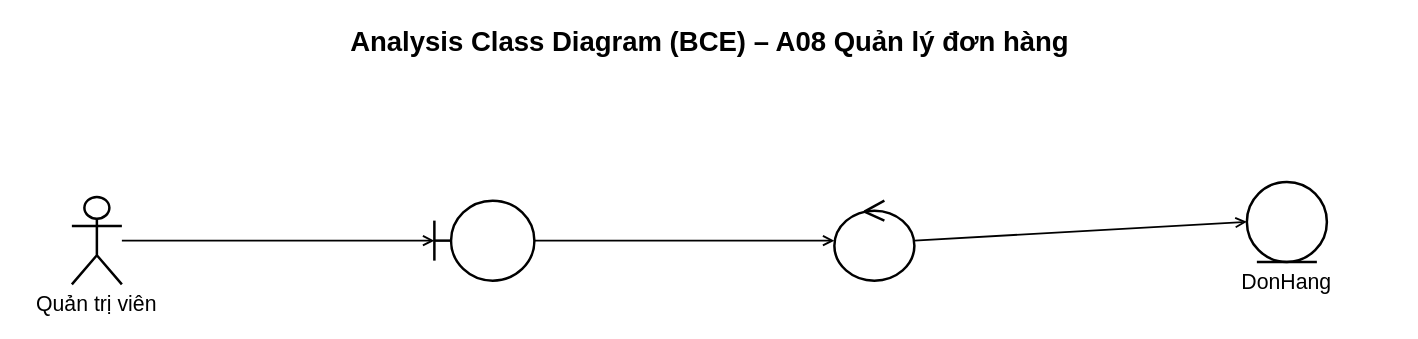
This 1418x339 diagram has some shape labels left out. The shapes that lost their labels are listed below. From the top down, each one's centre as x and y in pixels, then its label:
point 483,240: QuanLyDonHangPage
point 873,240: QuanLyDonHangController
